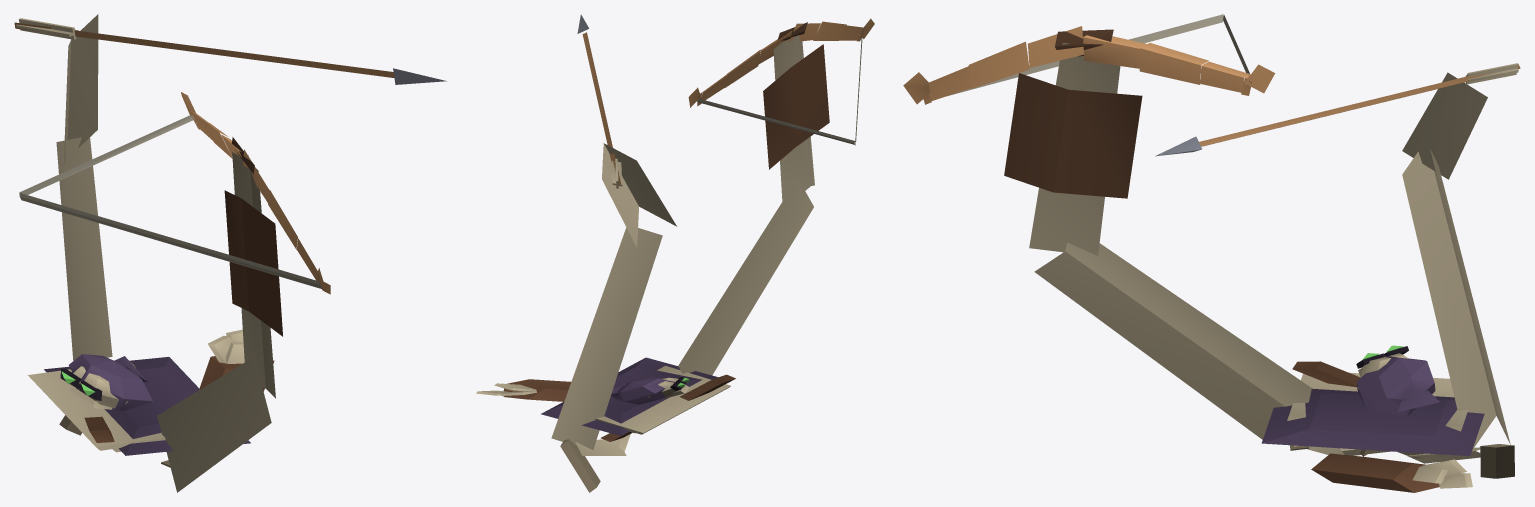
File: skeleton_archer.glb
3 views of the same model, side by side, from view 1: azimuth 30°, elevation 25°; view 2: azimuth 150°, elevation 25°; view 3: azimuth 270°, elevation 25° (orthographic). The views are drawn at different scales.
Parts seen in each view (by area): view 1: skeleton_archer; view 2: skeleton_archer; view 3: skeleton_archer.
Part boxes in pixels (<box>): skeleton_archer: <box>14,14,446,492</box>; skeleton_archer: <box>476,14,874,492</box>; skeleton_archer: <box>903,14,1520,492</box>.
Bounding box in the file's own units: 4.71 × 5.18 × 6.73.
